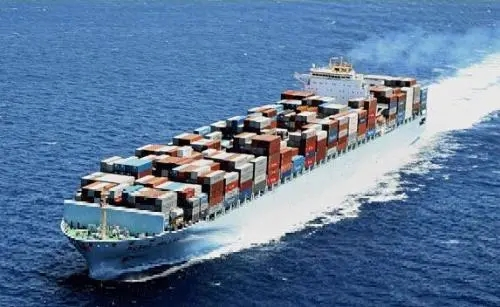Cargoship: (54, 51, 433, 261)
